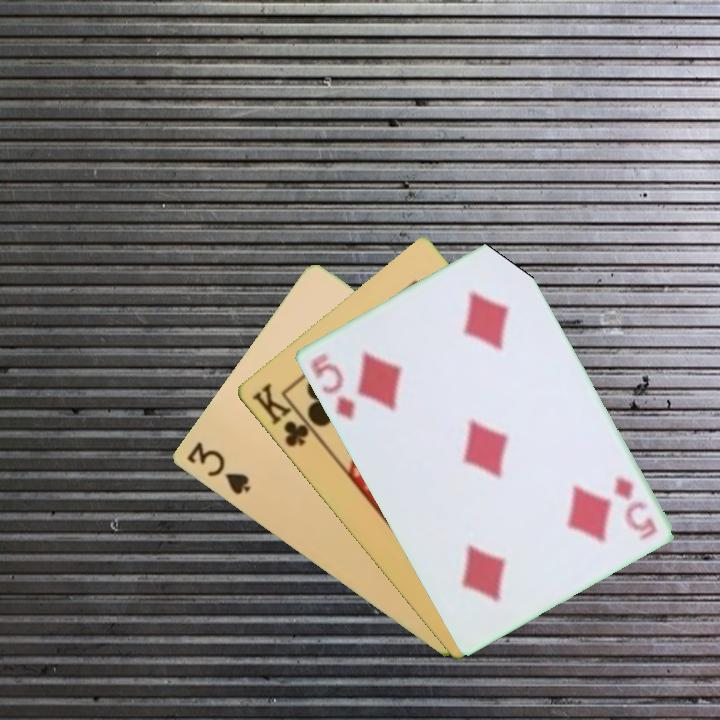3s: (182, 438, 254, 498)
5d: (308, 349, 357, 424), (609, 473, 659, 543)
Kc: (248, 379, 320, 450)
